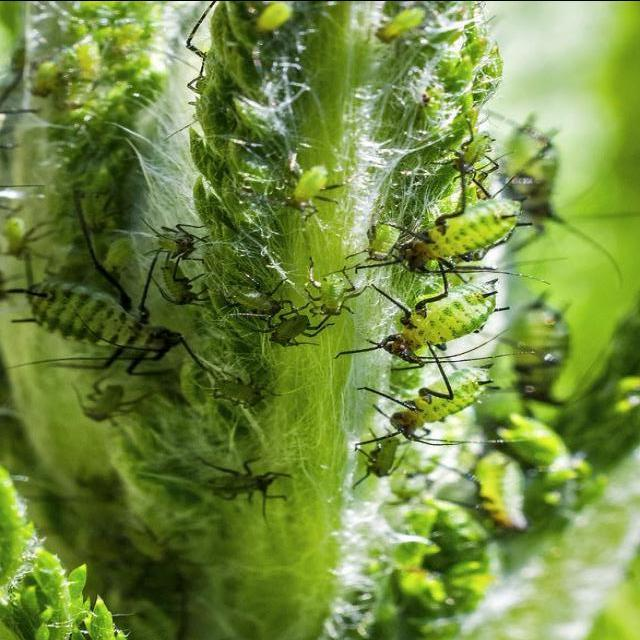aphid: (23, 252, 209, 378), (340, 186, 538, 275), (360, 360, 510, 461), (366, 276, 522, 364)
